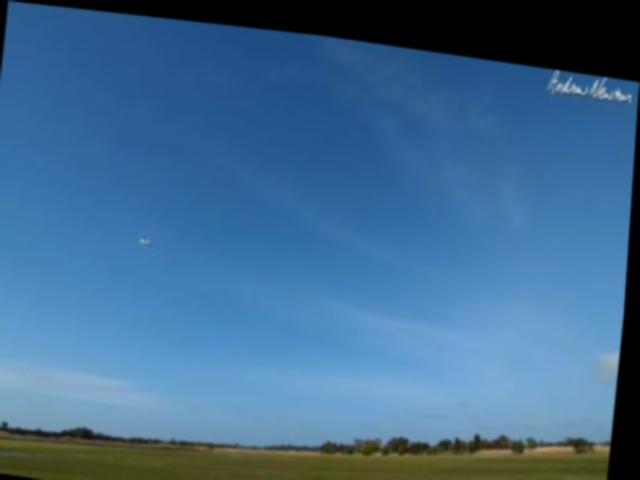uav: (135, 225, 162, 248)
